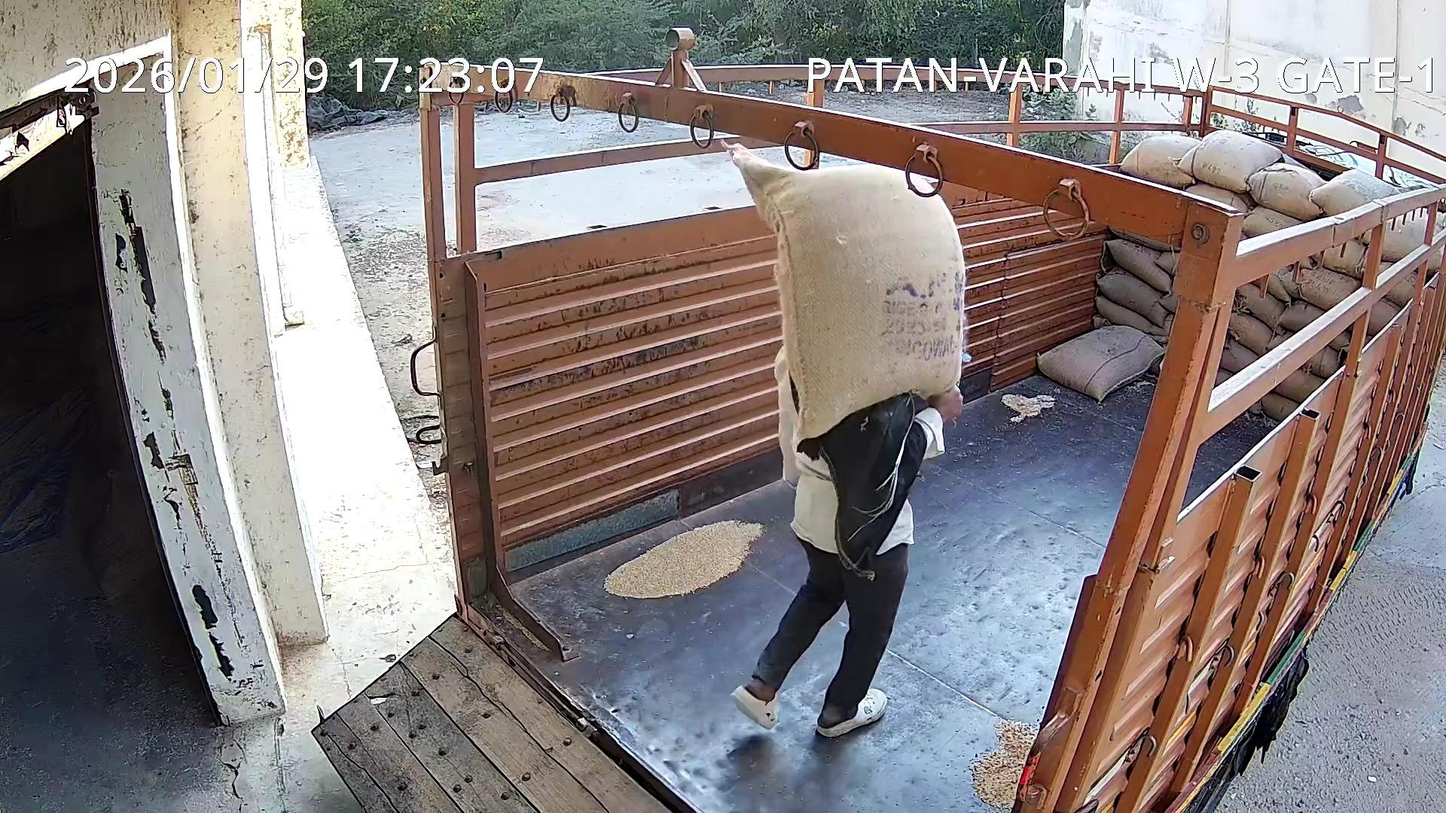Sack: (732, 151, 966, 437)
